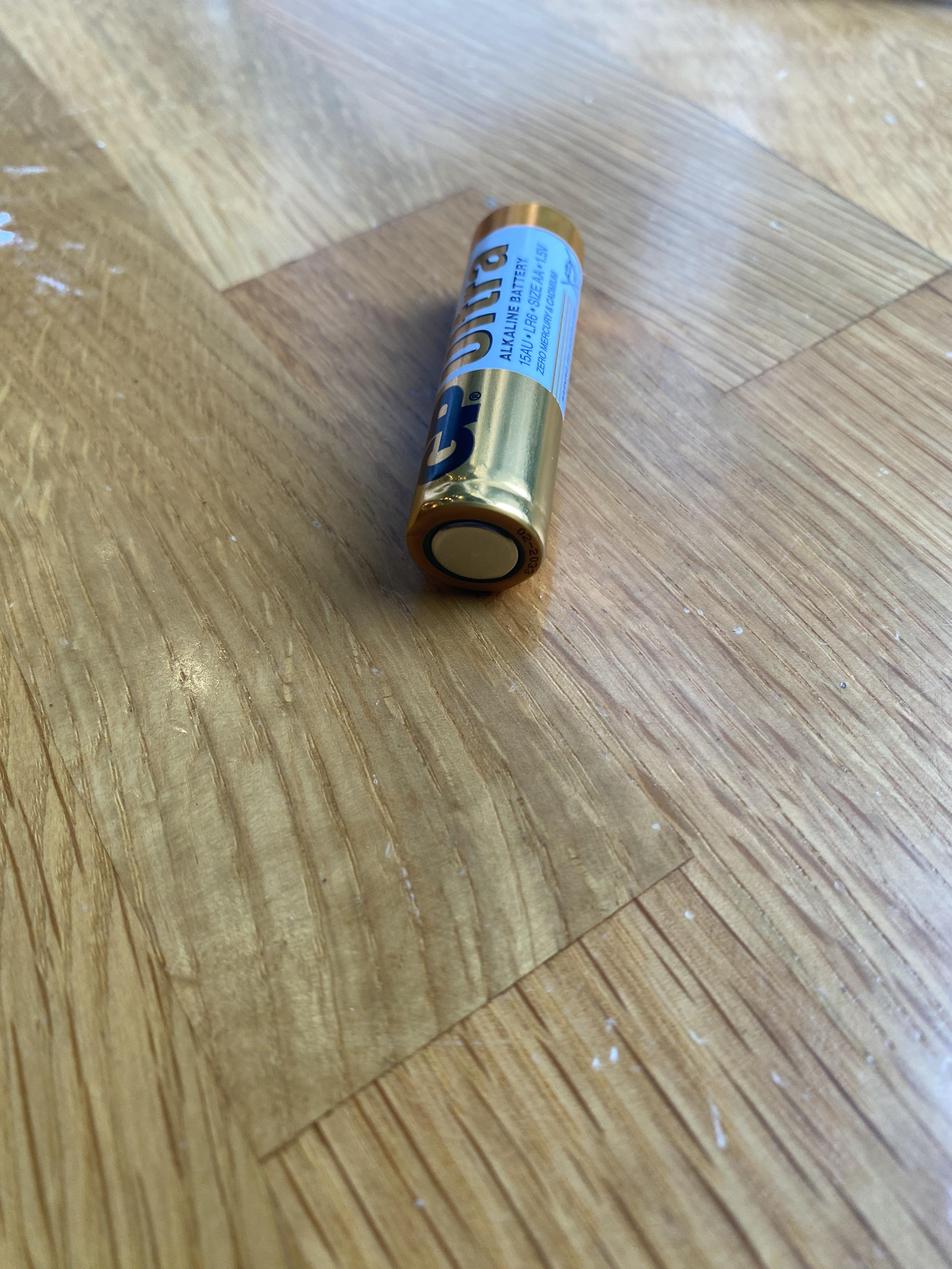AA: (404, 200, 585, 594)
